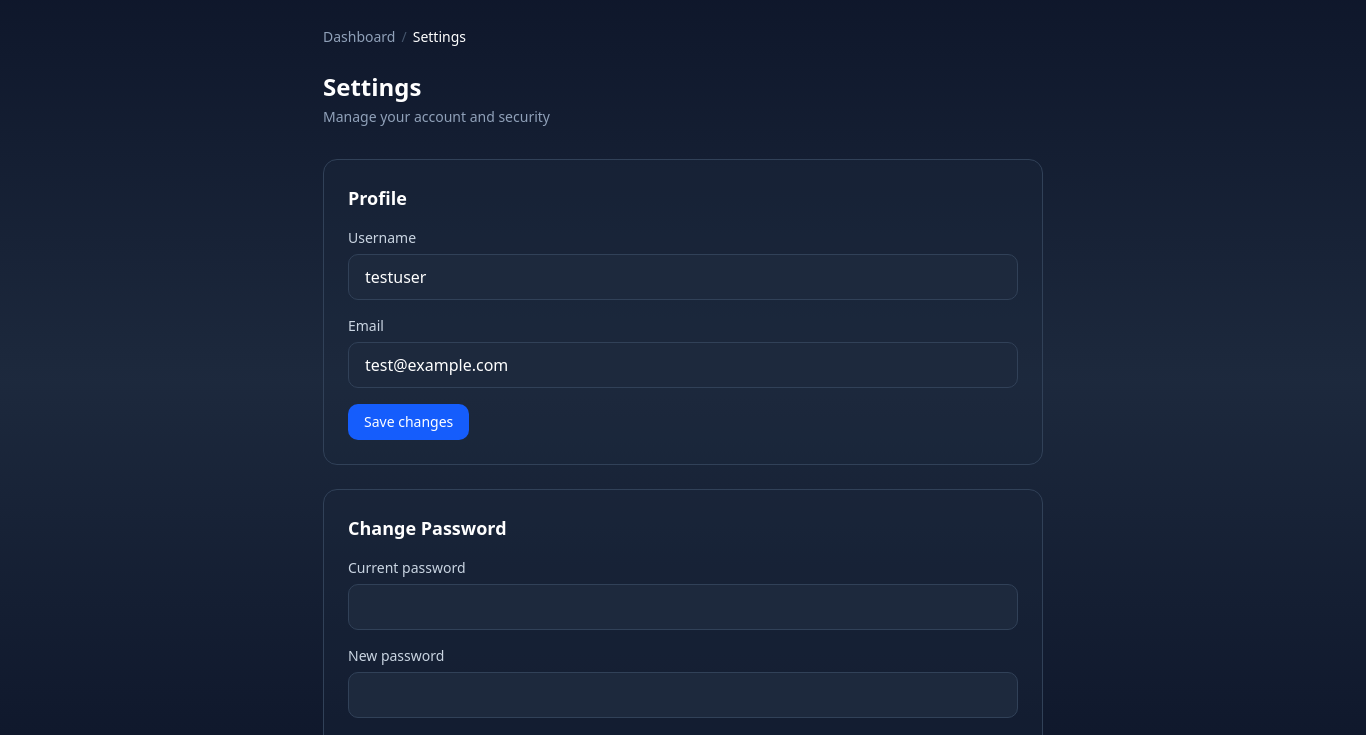
Test: SettingsPage › shows error when new password is too short
Expected: the field showing "testuser" below "Username" is shown, x1=348 y1=254 x2=1018 y2=300
Type "oldpassword" into the password field below "Current password" at (683, 607), box x1=348 y1=584 x2=1018 y2=630
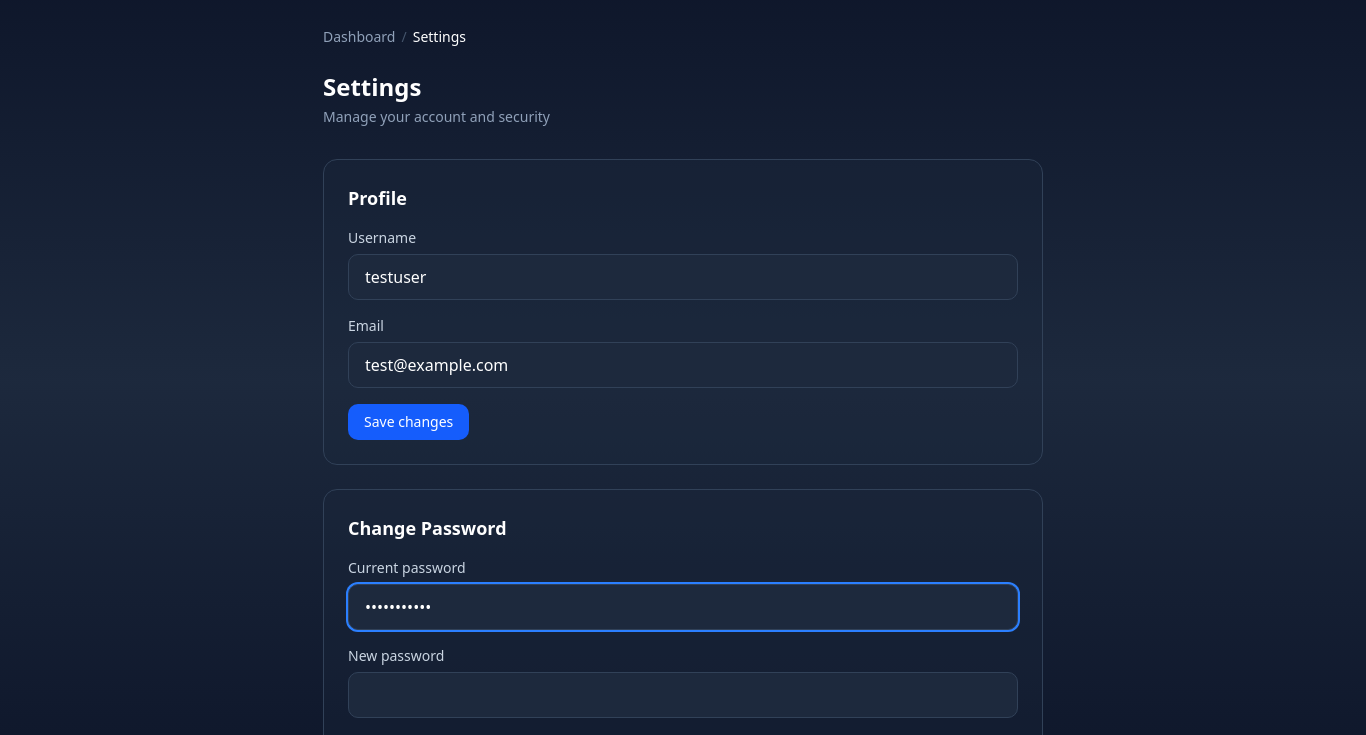
Type "short" into the 2nd password field at (683, 695), box x1=348 y1=672 x2=1018 y2=718
(page scrolled)
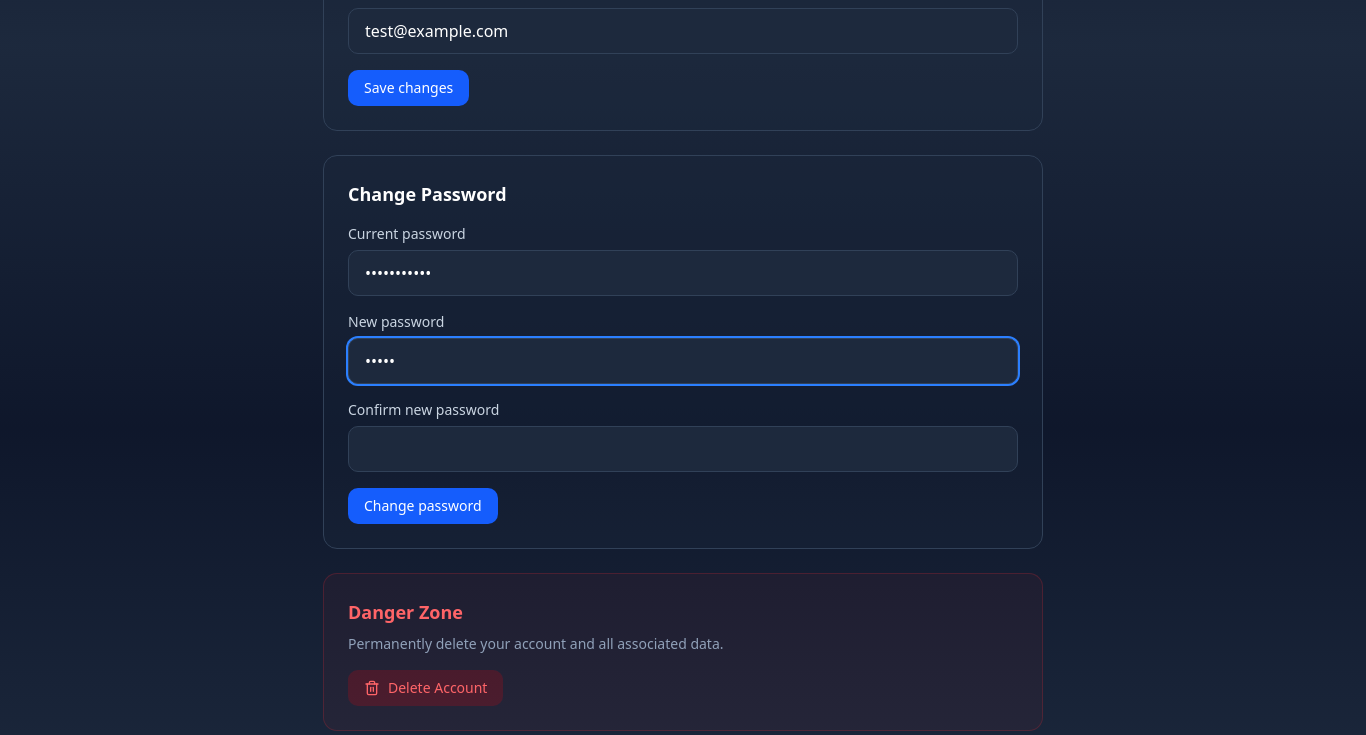
Type "short" into the password field below "Confirm new password" at (683, 449), box x1=348 y1=426 x2=1018 y2=472
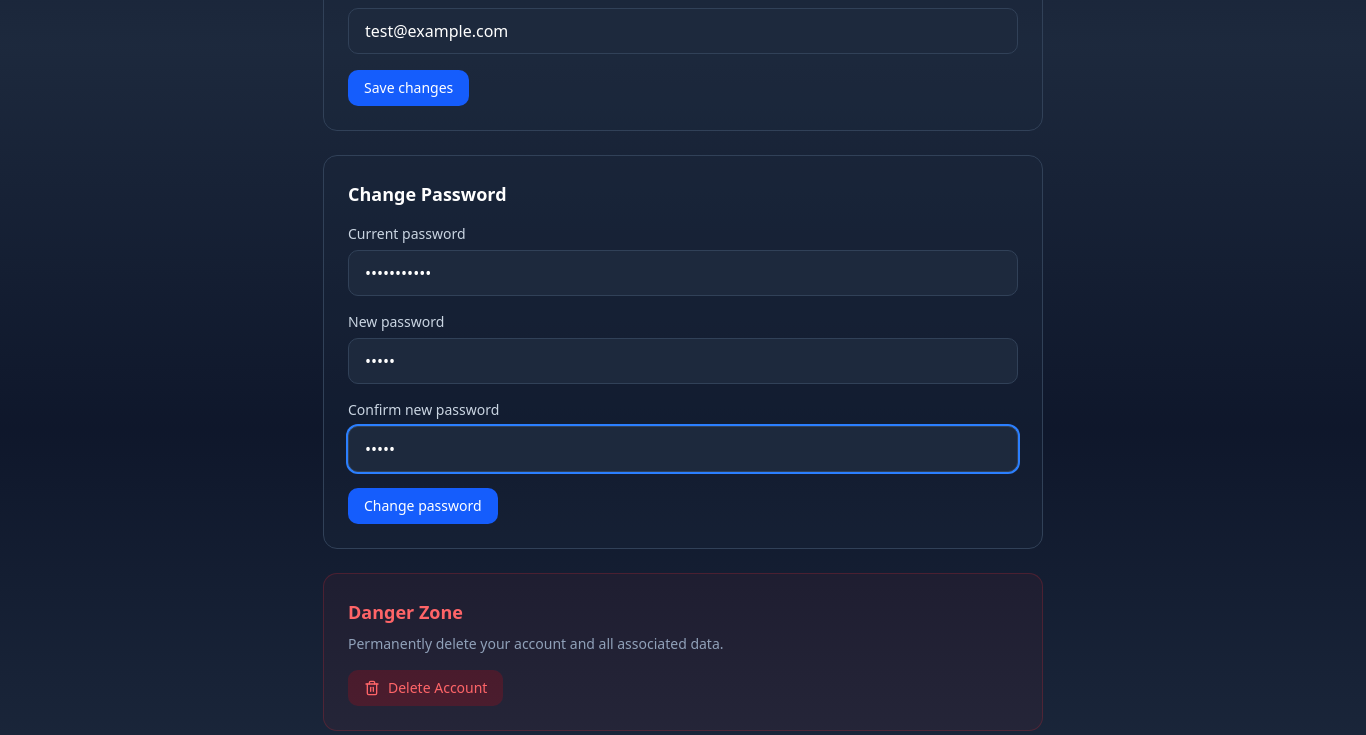
Click the button "Change password" at (423, 506), box x1=348 y1=488 x2=498 y2=524
(page scrolled)
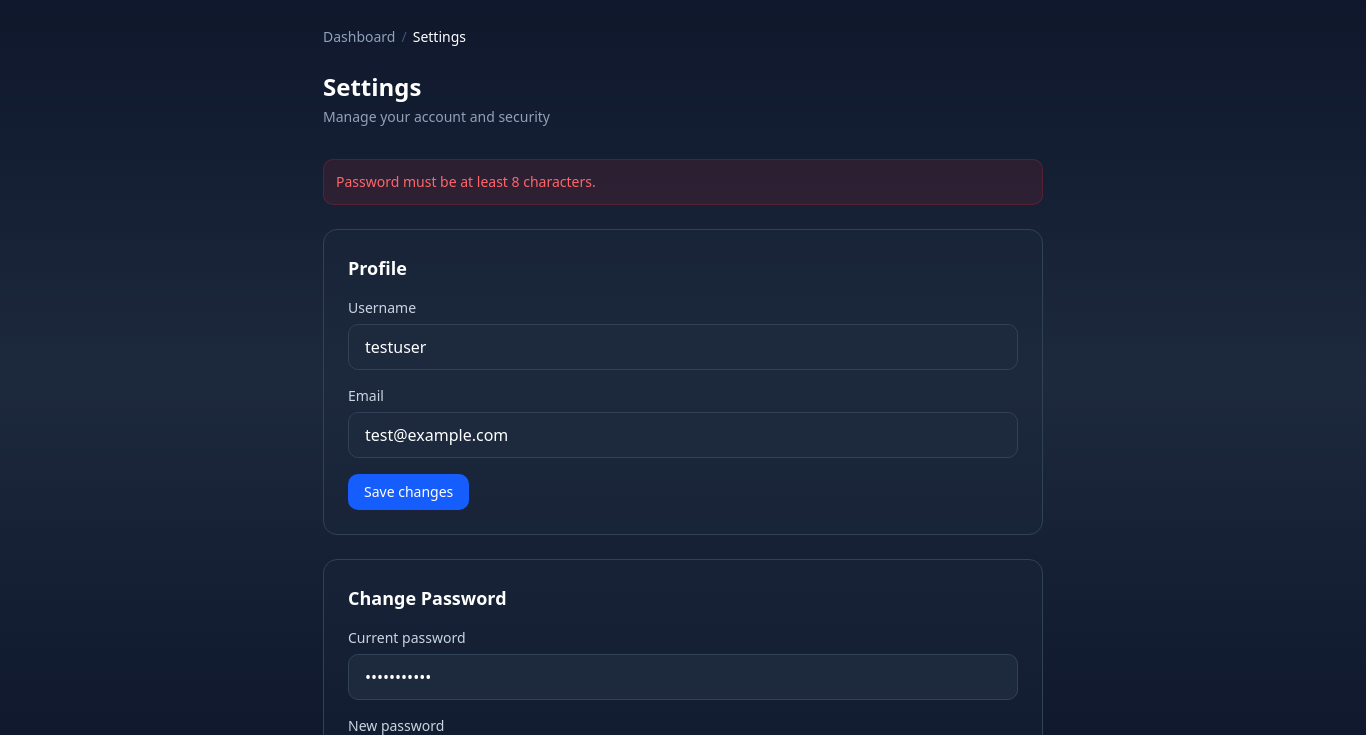
Expected: the text "Password must be at least 8 characters." is shown, x1=323 y1=159 x2=1043 y2=205
